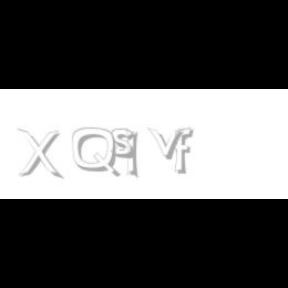Q: (72, 128, 118, 178)
X: (17, 128, 61, 180)
f: (173, 128, 197, 174)
l: (126, 128, 142, 180)
s: (111, 128, 139, 160)
v: (147, 128, 187, 160)
